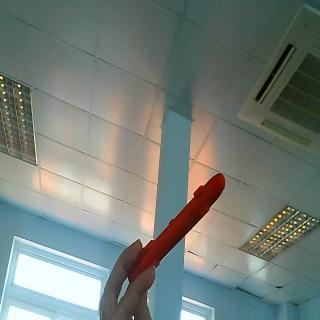Rocket: (143, 173, 227, 268)
